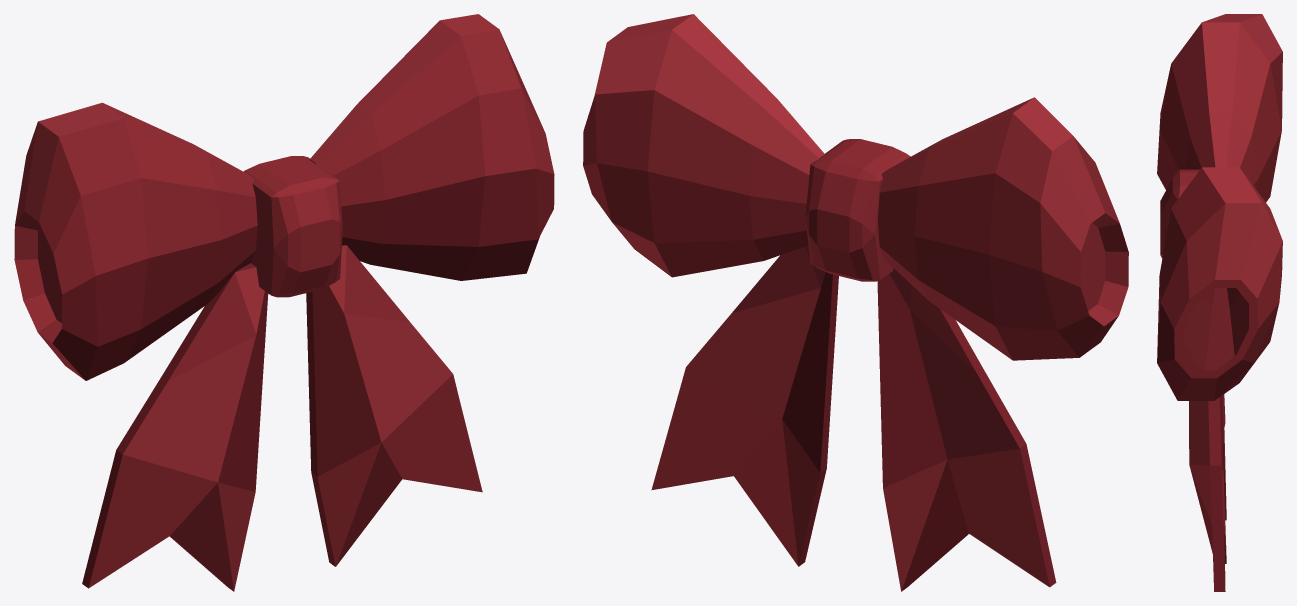
Rendered from 05 Red Ribbon Bow.glb.
The picture shows the model from 3 angles, left to right: view 1: azimuth 30°, elevation 25°; view 2: azimuth 150°, elevation 25°; view 3: azimuth 270°, elevation 25°; orthographic projection. The views are drawn at different scales.
Visible parts, largest first — view 1: Right thick fishtail ribbon; view 2: Right thick fishtail ribbon; view 3: Right thick fishtail ribbon.
Boxes of the visible parts, x1=… form: Right thick fishtail ribbon: x1=14, y1=14, x2=554, y2=591; Right thick fishtail ribbon: x1=583, y1=14, x2=1128, y2=591; Right thick fishtail ribbon: x1=1157, y1=14, x2=1282, y2=591.
Bounding box in the file's own units: 5.72 × 5.64 × 1.44.
